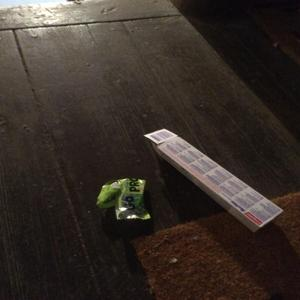cardboard: (140, 109, 290, 237)
plastic: (95, 171, 155, 223)
